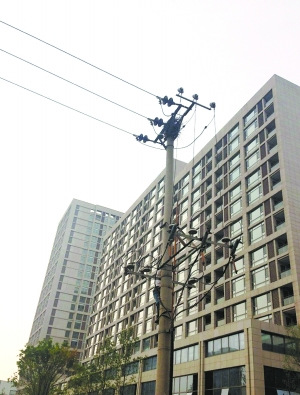bird-nest: (164, 117, 179, 137)
